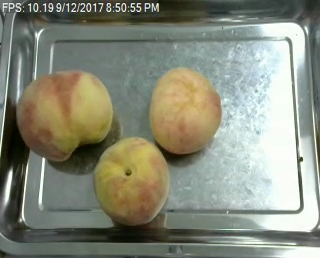Peach: (14, 70, 115, 159), (92, 136, 169, 226), (148, 67, 222, 155)
